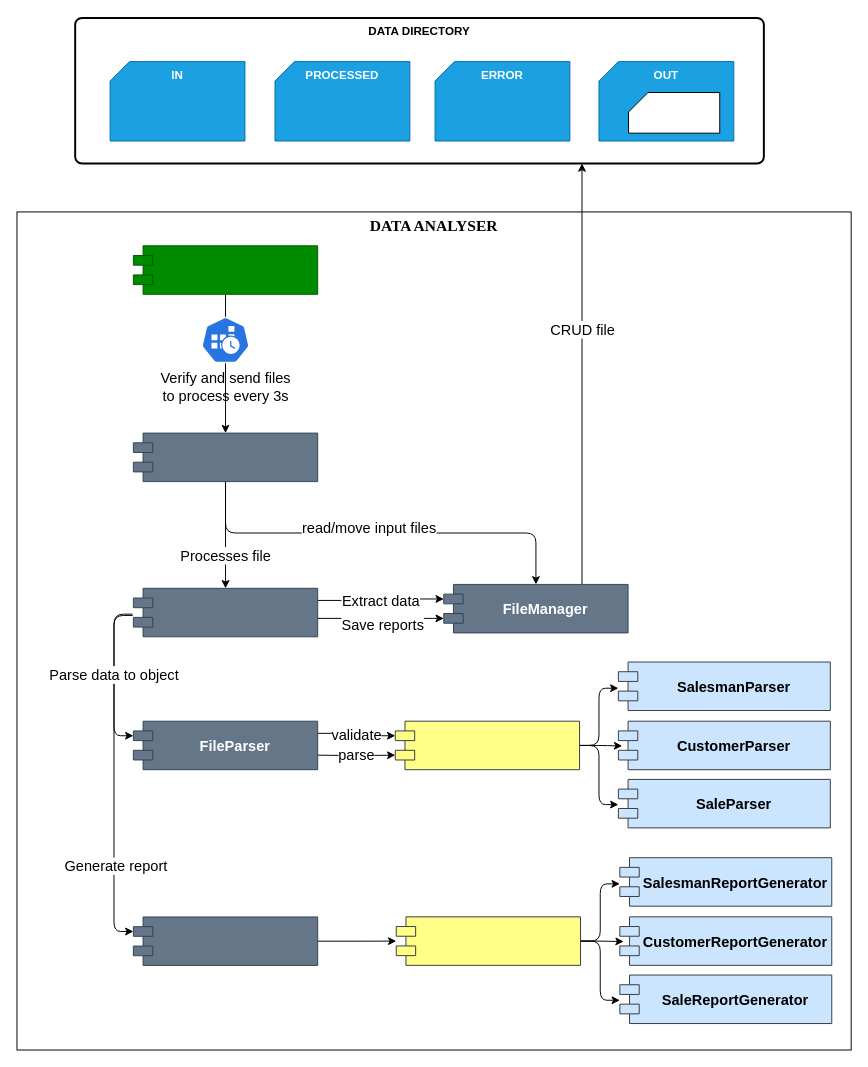
This 868x1067 diagram has some shape labels left out. Here are the shapes that lost their labels. From the top down, the centre of each, then its label:
At point 674,112: "individual-reports".
At point 225,269: "DirectoryMonitorJob".
At point 225,457: "DataAnalysisService".
At point 225,612: "FileProcessorService".
At point 487,745: "RowDataParser".
At point 225,940: "ReportService".
At point 488,940: "ReportGenerator".
